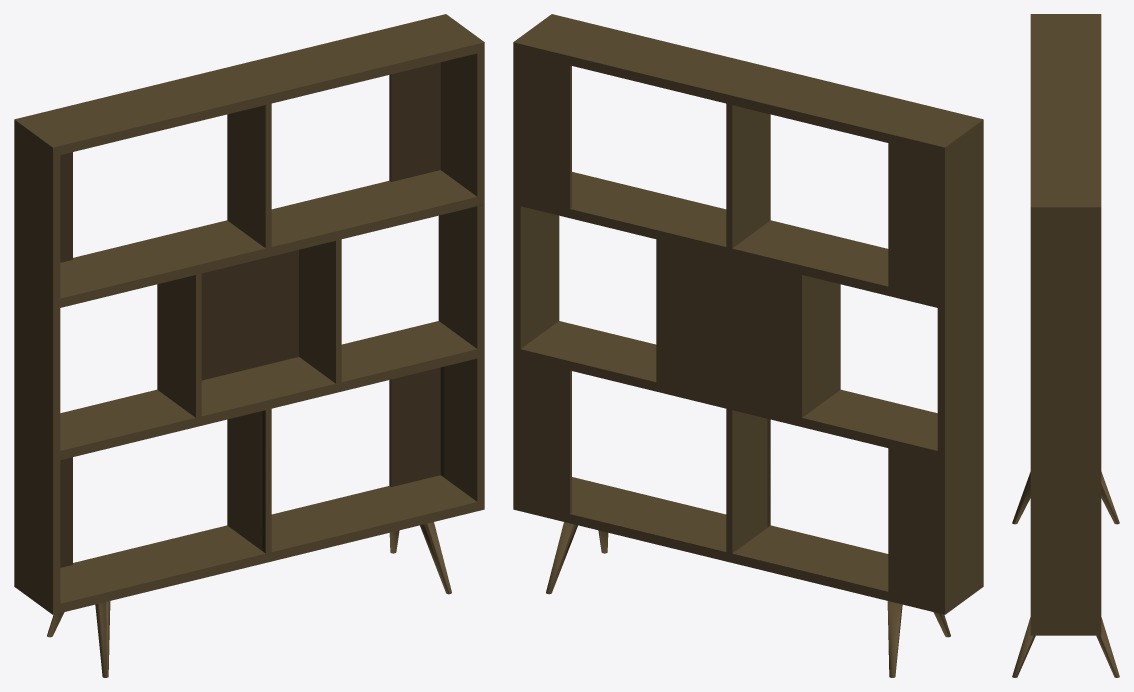
File: Estanteria guayMarron.fbx
3 renders of one model, left to right at view 1: azimuth 30°, elevation 25°; view 2: azimuth 150°, elevation 25°; view 3: azimuth 270°, elevation 25°, orthographic. The views are drawn at different scales.
Parts seen in each view (by area): view 1: estantes; view 2: estantes; view 3: estantes.
Part boxes in pixels (box(x1,y1,x2,y2)): estantes: box(14, 14, 484, 677); estantes: box(513, 14, 983, 677); estantes: box(1012, 14, 1119, 677).
Size of the model in its own units: 184 by 217 by 43.33.
